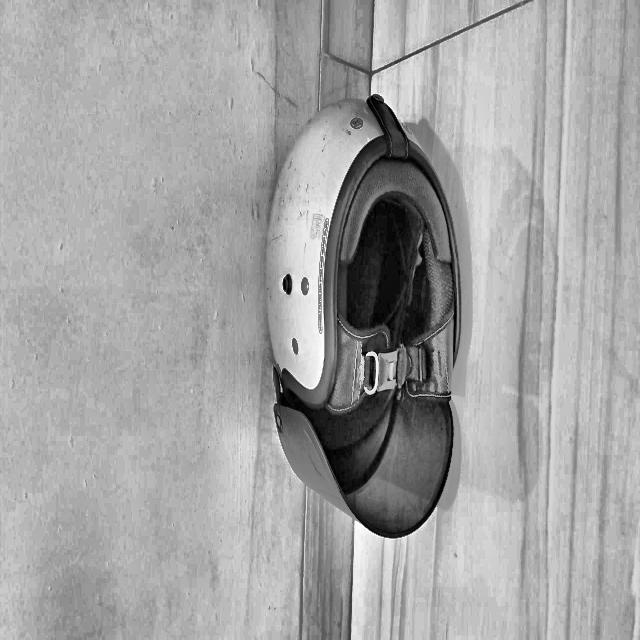Helmet: (232, 76, 480, 542)
